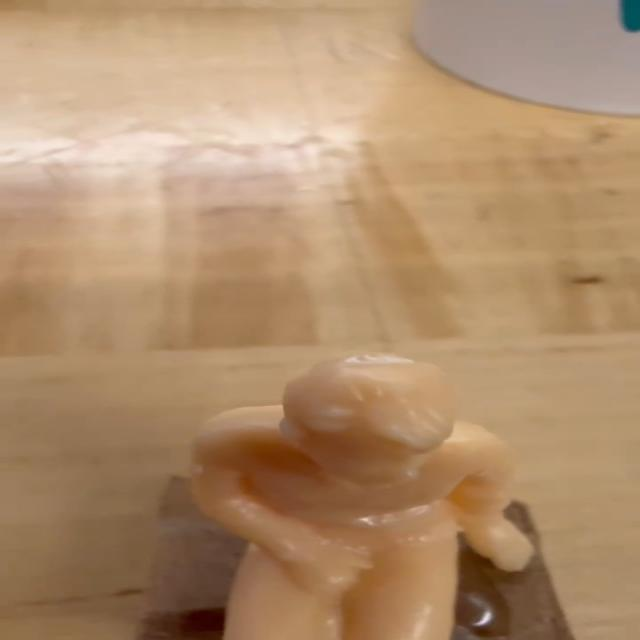Unauthorized: (169, 339, 539, 640)
